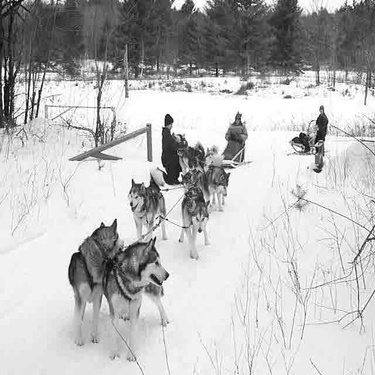dog: (90, 234, 180, 363), (58, 211, 123, 351), (118, 156, 170, 248), (190, 154, 240, 217), (174, 186, 212, 265), (162, 129, 207, 185), (173, 168, 211, 216), (193, 142, 224, 181)
